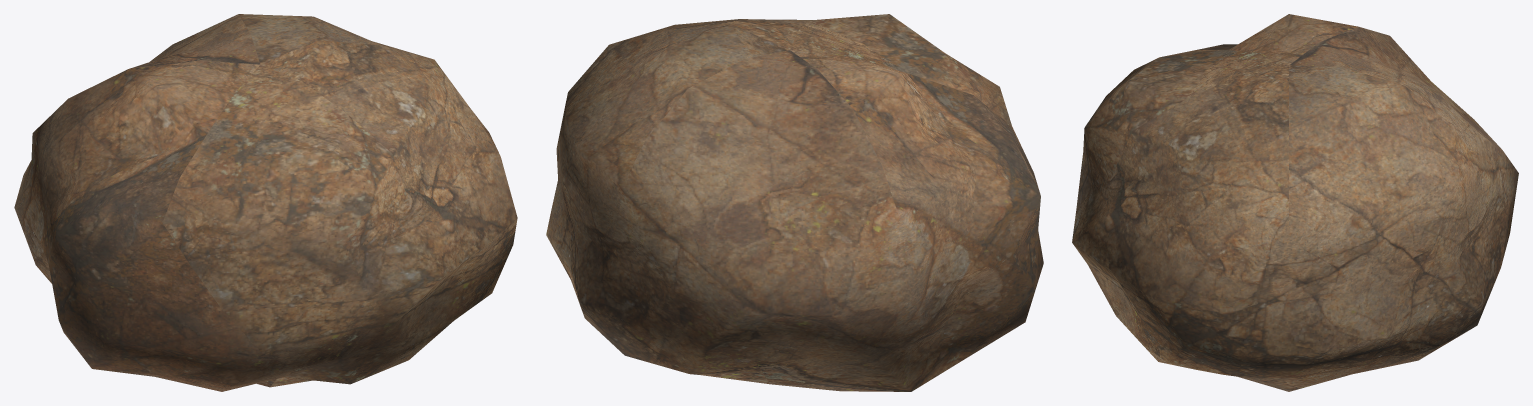
The model's file is boulder1.glb.
3 renders of one model, left to right at view 1: azimuth 30°, elevation 25°; view 2: azimuth 150°, elevation 25°; view 3: azimuth 270°, elevation 25°, orthographic. The views are drawn at different scales.
Visible parts, largest first — view 1: Boulder1; view 2: Boulder1; view 3: Boulder1.
Boxes of the visible parts, x1,y1,x2,y2 form: Boulder1: (14,14,517,391); Boulder1: (546,14,1043,391); Boulder1: (1072,14,1518,391).
Bounding box in the file's own units: 2.64 × 1.78 × 2.4.
1 material, 1 textured.
